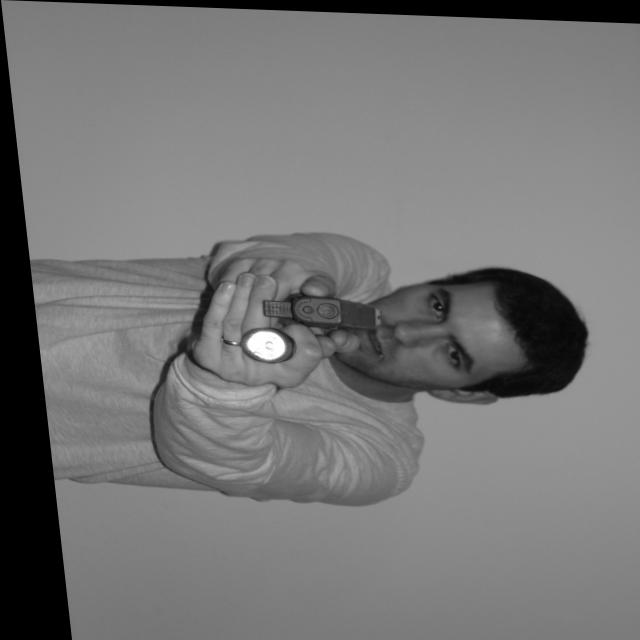handgun: (252, 289, 380, 331)
